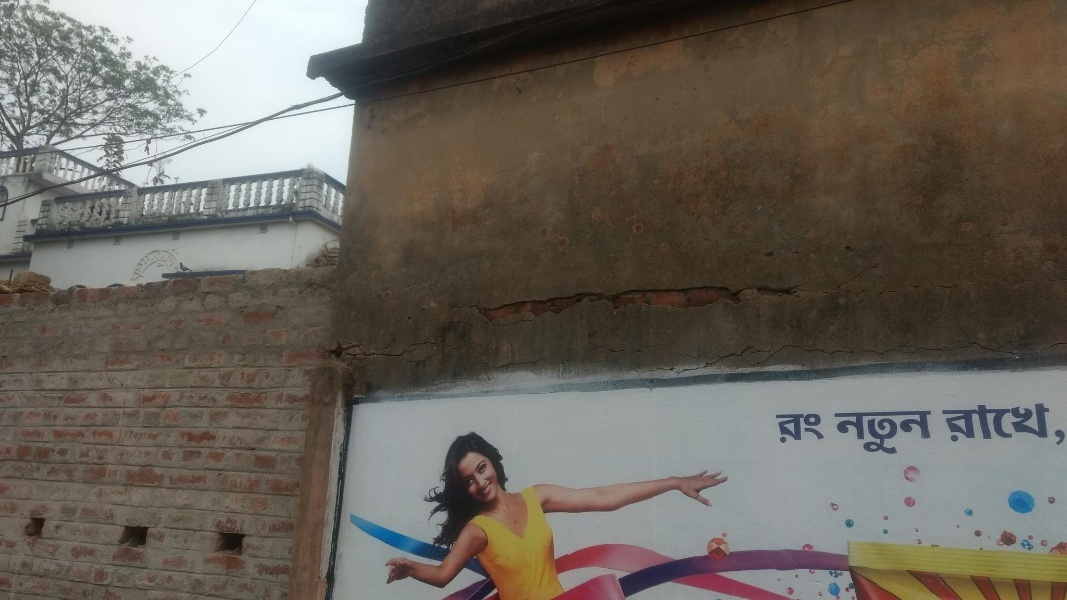text: (945, 391, 960, 457), (961, 391, 976, 457), (977, 391, 992, 457), (993, 391, 1008, 457), (1009, 391, 1024, 457), (1025, 391, 1040, 457), (1041, 391, 1056, 457), (833, 408, 848, 463), (849, 408, 864, 463), (865, 408, 880, 463), (881, 408, 896, 463), (897, 408, 912, 463), (913, 408, 928, 463), (1057, 391, 1067, 457), (785, 412, 800, 451), (801, 412, 816, 451), (129, 246, 144, 281), (145, 246, 160, 281), (161, 246, 176, 281), (817, 412, 829, 451), (938, 391, 944, 457), (776, 412, 784, 451), (929, 408, 934, 463), (177, 246, 182, 281), (831, 408, 832, 463)
